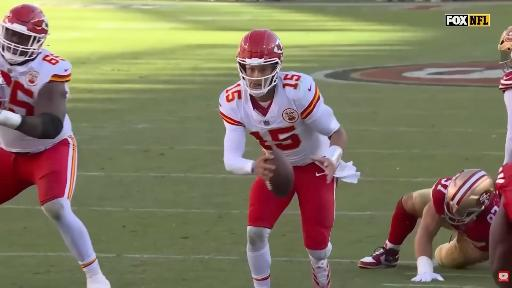Helmet: (237, 30, 282, 96), (0, 4, 48, 63), (445, 170, 494, 224), (499, 27, 511, 71)
Jersey: (220, 72, 329, 165), (0, 50, 71, 115), (452, 194, 500, 251), (495, 163, 511, 222), (499, 71, 511, 92)
Player: (220, 30, 359, 287), (0, 4, 110, 287), (359, 170, 499, 281), (490, 27, 511, 287), (490, 163, 511, 287), (499, 27, 511, 163)
